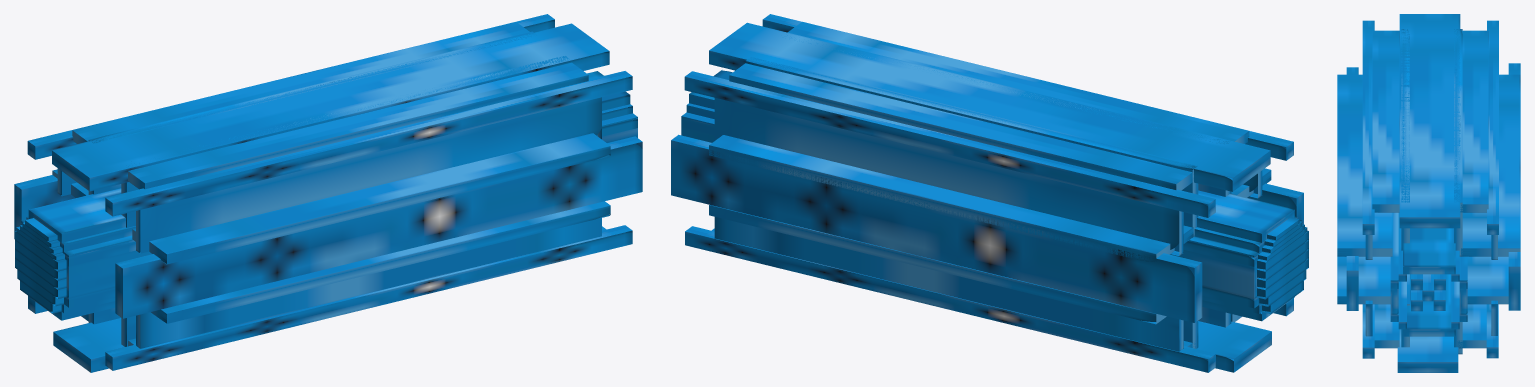
File: floating_turret.obj
3 views of the same model, side by side, from view 1: azimuth 30°, elevation 25°; view 2: azimuth 150°, elevation 25°; view 3: azimuth 270°, elevation 25° (orthographic). The views are drawn at different scales.
Parts seen in each view (by area): view 1: cube; view 2: cube; view 3: cube.
Part boxes in pixels (box(x1,y1,x2,y2)): cube: box(14, 14, 642, 372); cube: box(671, 14, 1308, 372); cube: box(1337, 14, 1520, 372).
Size of the model in its own units: 8.25 by 2.65 by 2.83.
